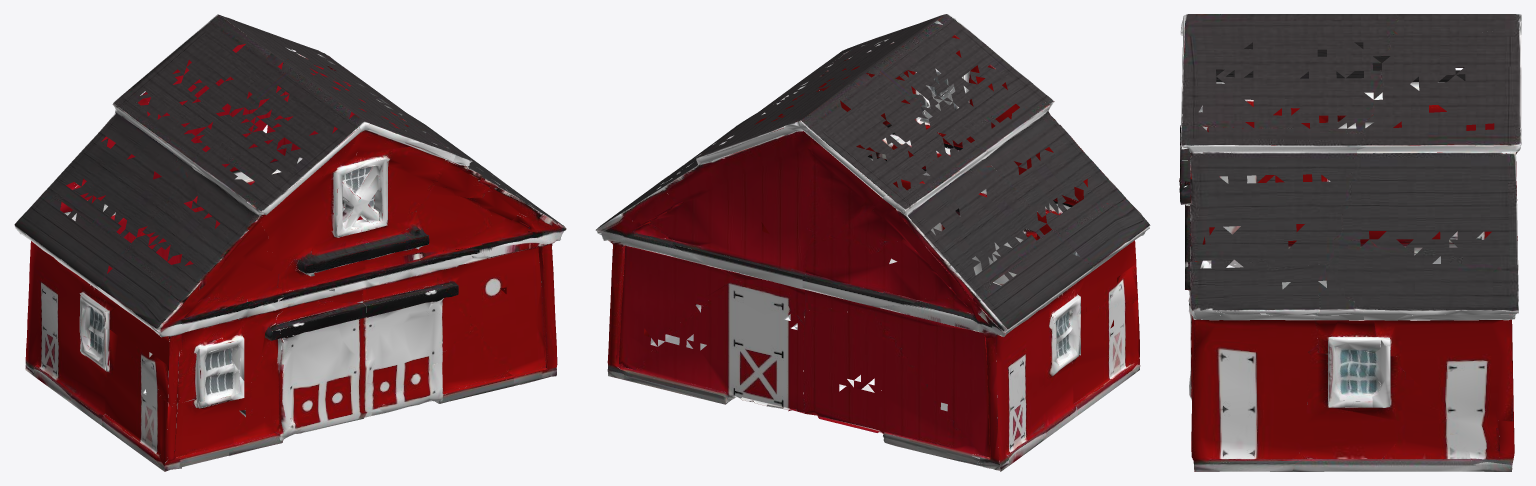
Rendered from barn.3f50d35b8fb8.glb.
3 renders of one model, left to right at view 1: azimuth 30°, elevation 25°; view 2: azimuth 150°, elevation 25°; view 3: azimuth 270°, elevation 25°, orthographic. The views are drawn at different scales.
Visible parts, largest first — view 1: Mesh_0.001; view 2: Mesh_0.001; view 3: Mesh_0.001.
Boxes of the visible parts, box(x1,y1,x2,y2) form: Mesh_0.001: box(14, 14, 566, 471); Mesh_0.001: box(595, 14, 1150, 471); Mesh_0.001: box(1179, 14, 1521, 471).
Size of the model in its own units: 9.84 by 7 by 6.22.
1 material, 1 textured.
